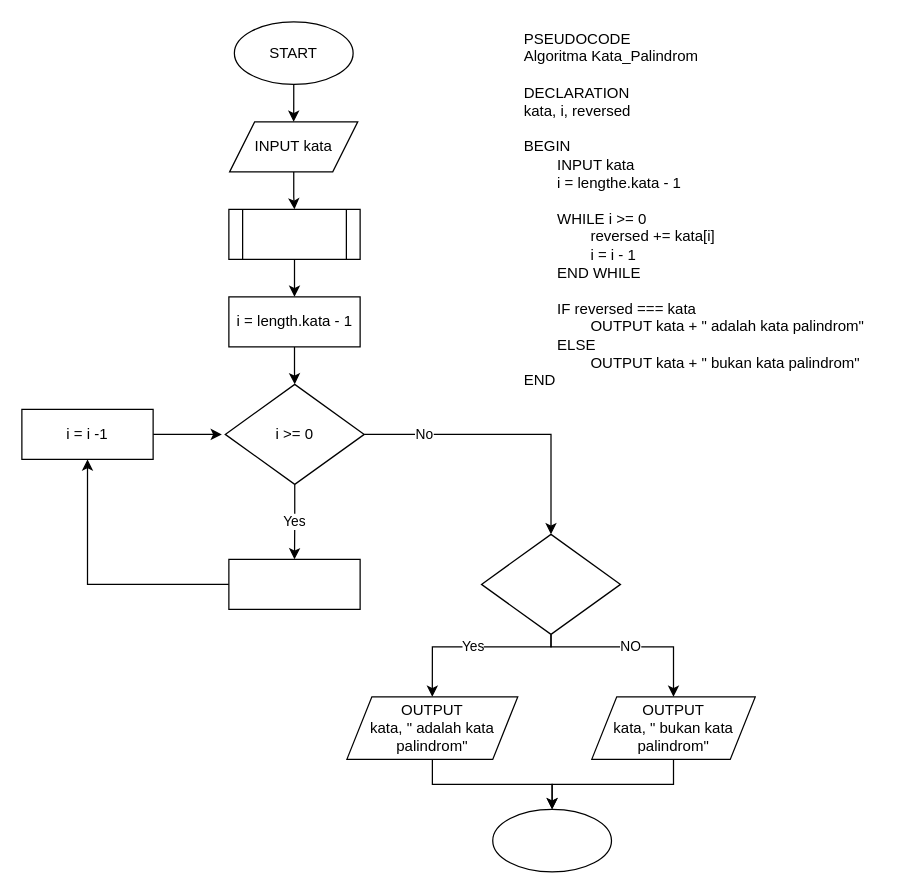
Some shapes in this 919 by 894 pixel diagram are drawn without their labels. Each missing label, with the box of its shape:
END: (492, 808, 612, 872)
i, reversed: (228, 208, 360, 259)
reversed += kata[i]: (228, 558, 360, 609)
reversed === kata: (480, 533, 620, 634)
